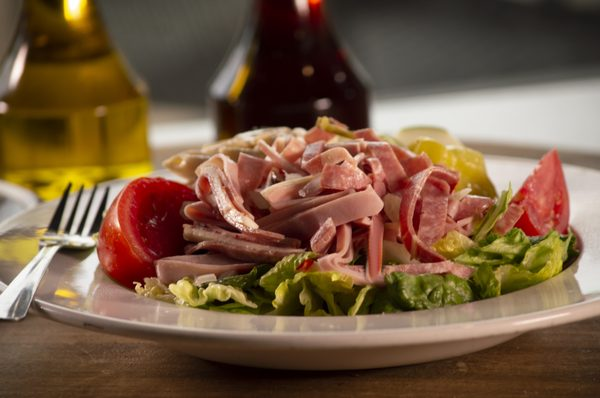burger: (0, 179, 108, 321)
